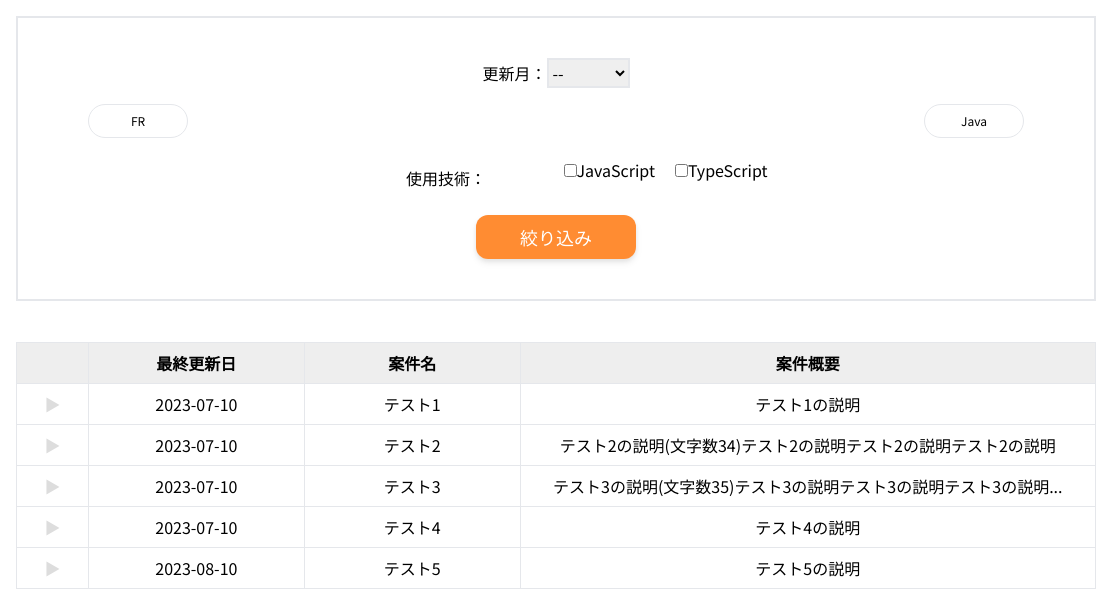
Test: select › 絞り込みテスト › 絞り込みapiリクエストのテスト › 回答月+職種の選択
This screenshot has width=1113, height=606.
Select "2023-07" in the dropdown with test id "month" at (588, 73), box [546,58,630,88]
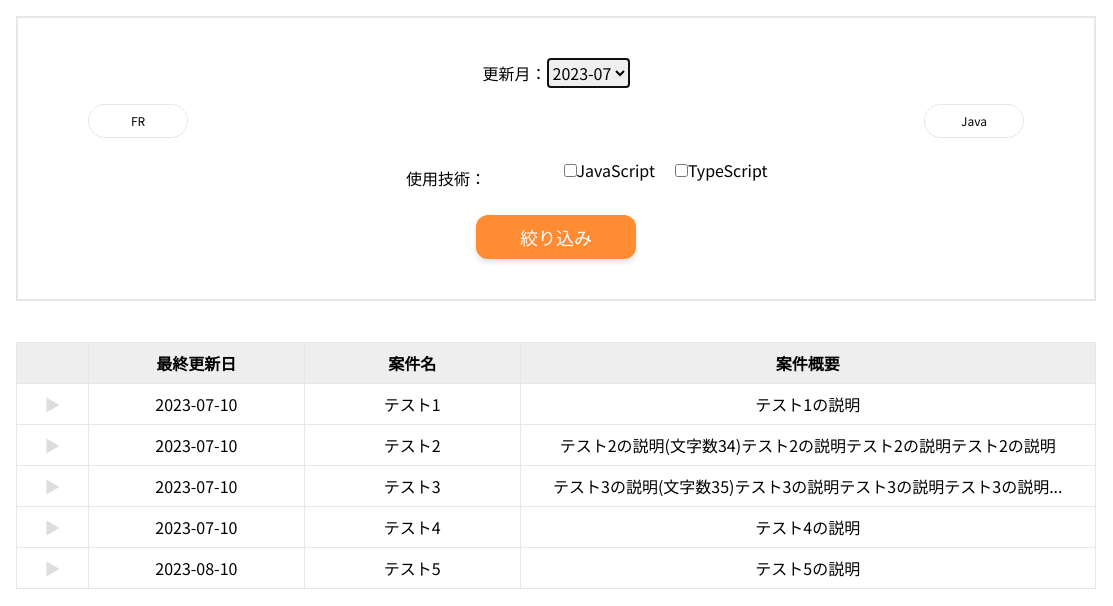
Click the checkbox labelled "FR".
click(138, 121)  # box [88,104,188,138]
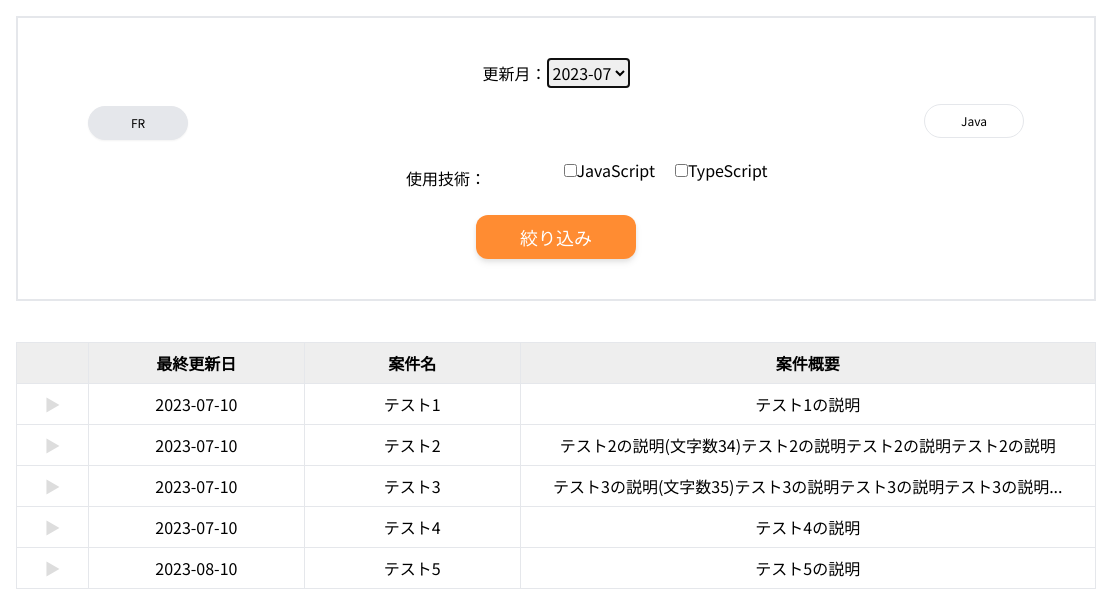
Click the button "絞り込み".
click(556, 236)  # box [476,214,636,258]
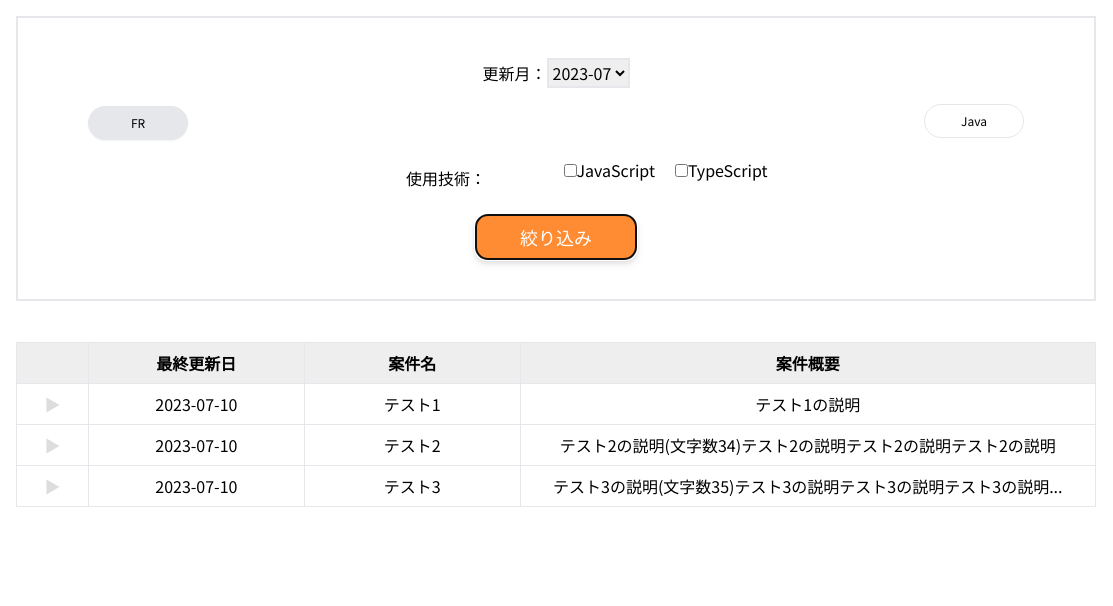
Expected: the text "テスト1" is shown, [304,383,520,424]
Now the text "テスト4" is gone
Now the text "テスト5" is gone
